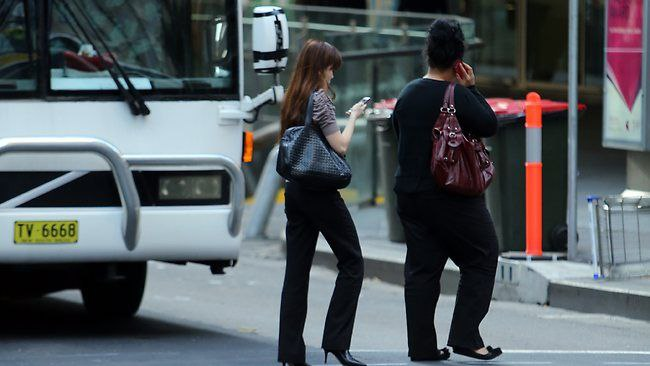sombie: (265, 35, 383, 366)
